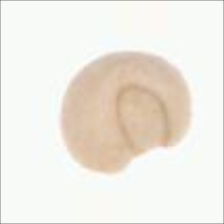L5: (113, 81, 171, 157), (75, 48, 147, 71)
L6: (59, 47, 197, 180)
